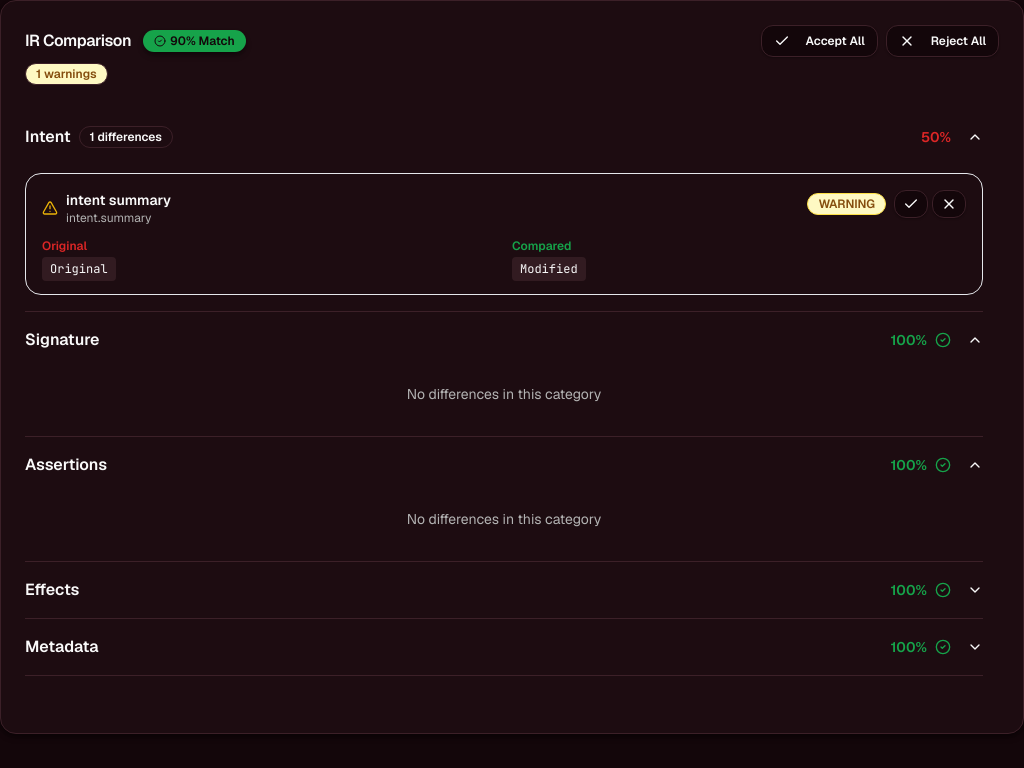
Scenario: IRDiffViewer › highlights accepted diff with green background
What coordinates should you click on to do the following:
click the 4th button
I would click on:
 (911, 204)
Its box is 894,190 -> 928,218.
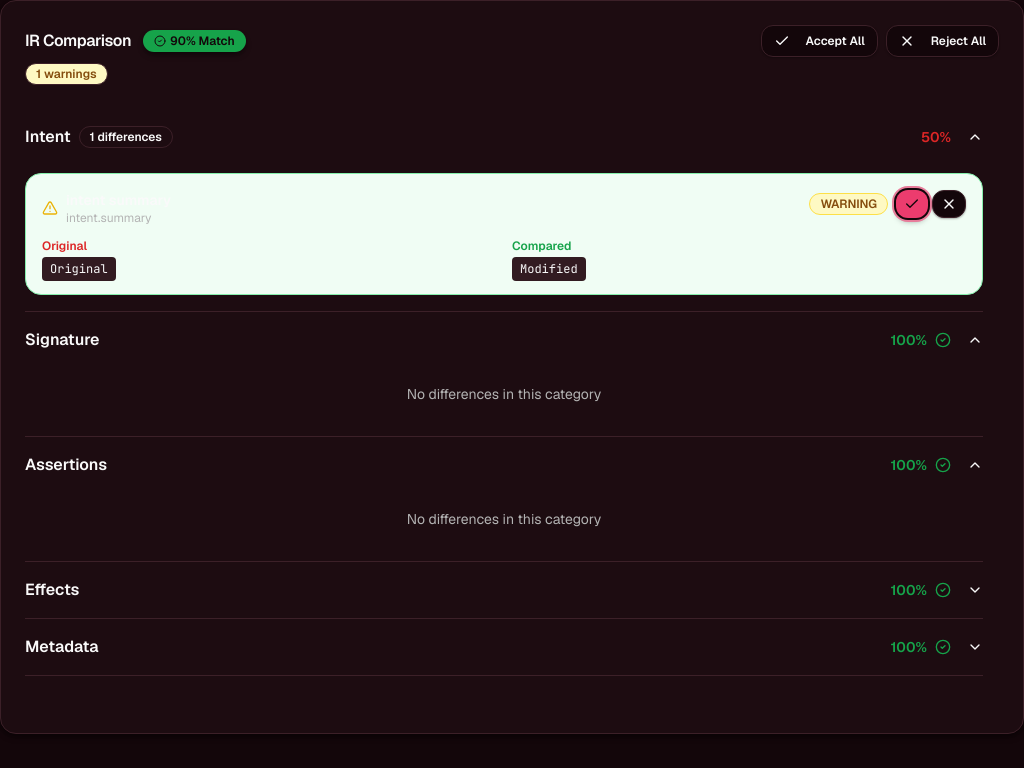
expect the element that starts with "intent summary" is shown: met, box 25,173 -> 983,295
